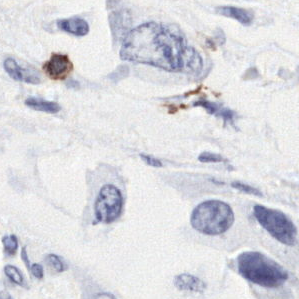Lymphocyte: (44, 51, 73, 80)
